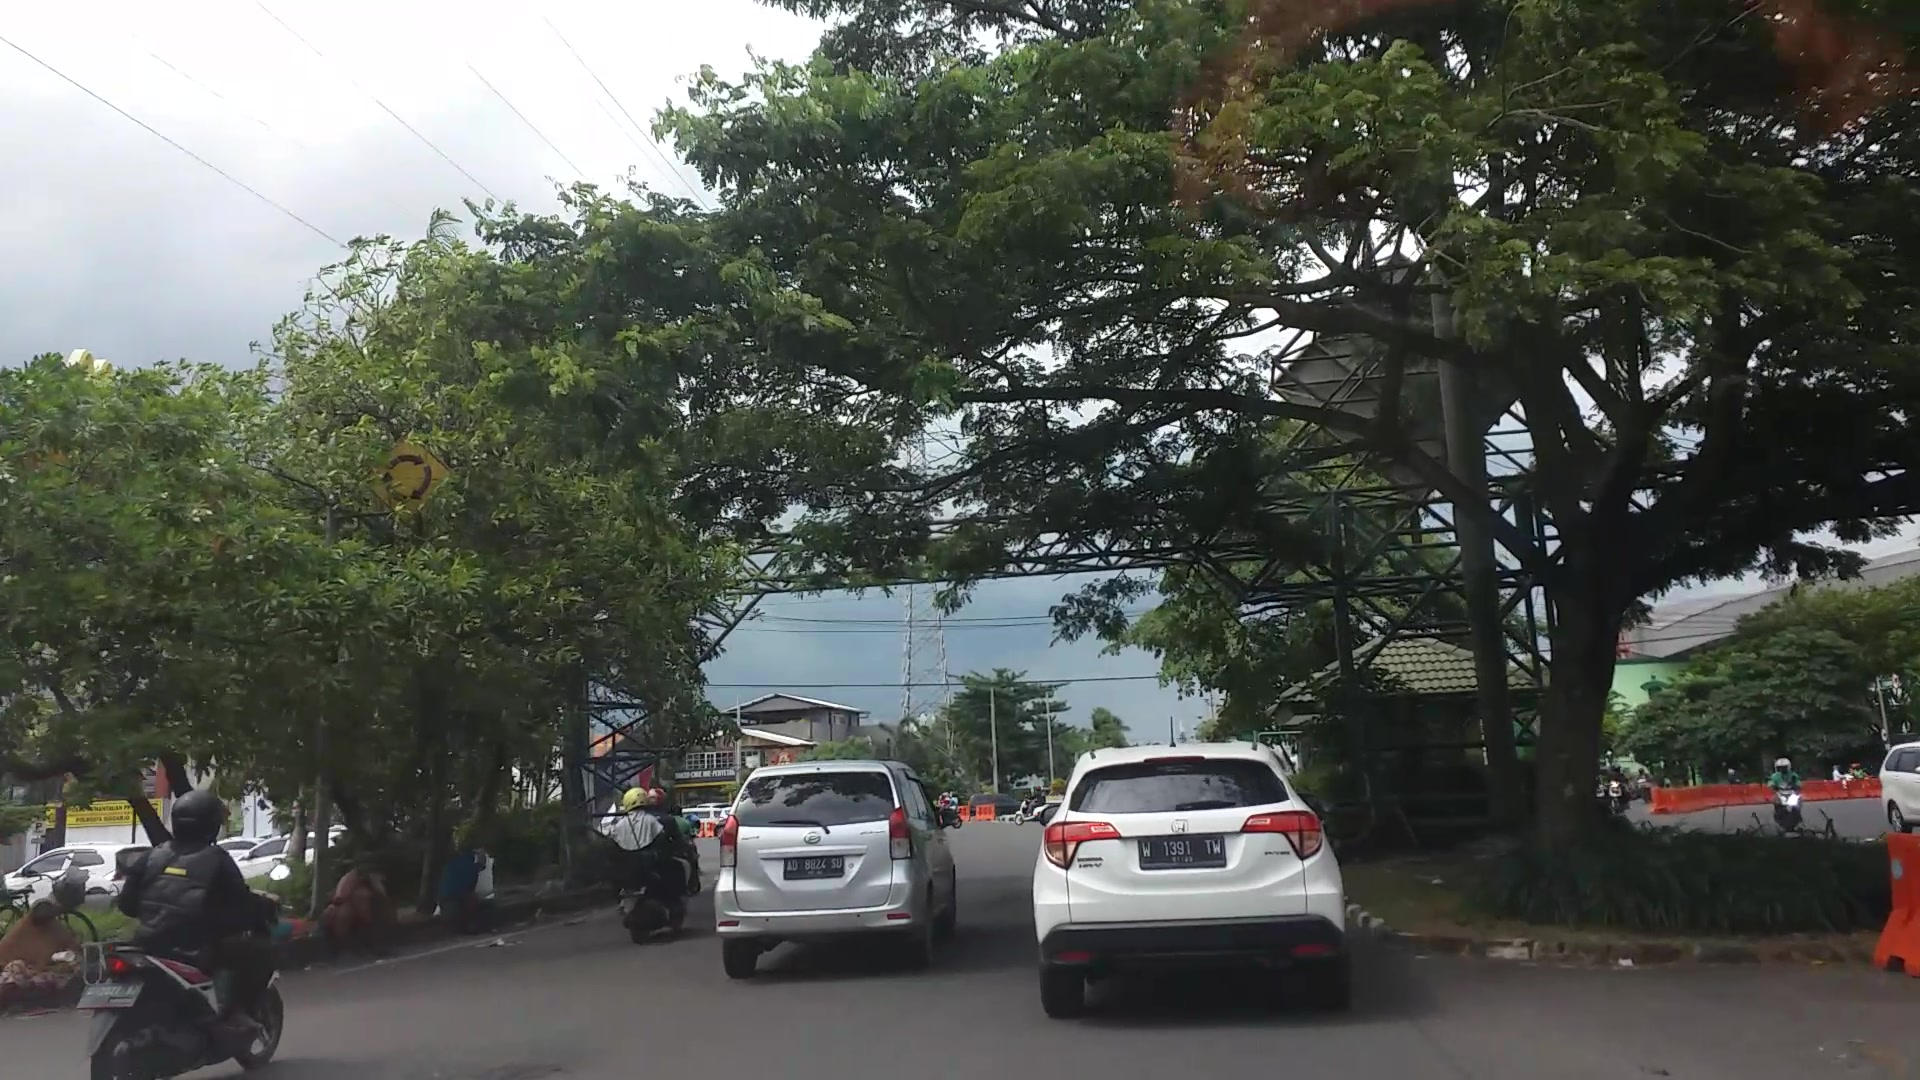plate_positive: (1138, 835, 1226, 866), (785, 857, 845, 877)
